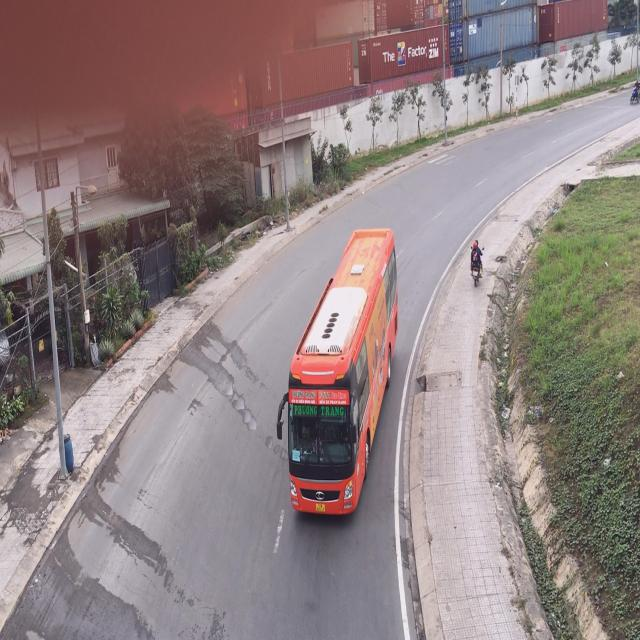bus: (274, 228, 394, 522)
motorbike: (468, 241, 482, 289)
